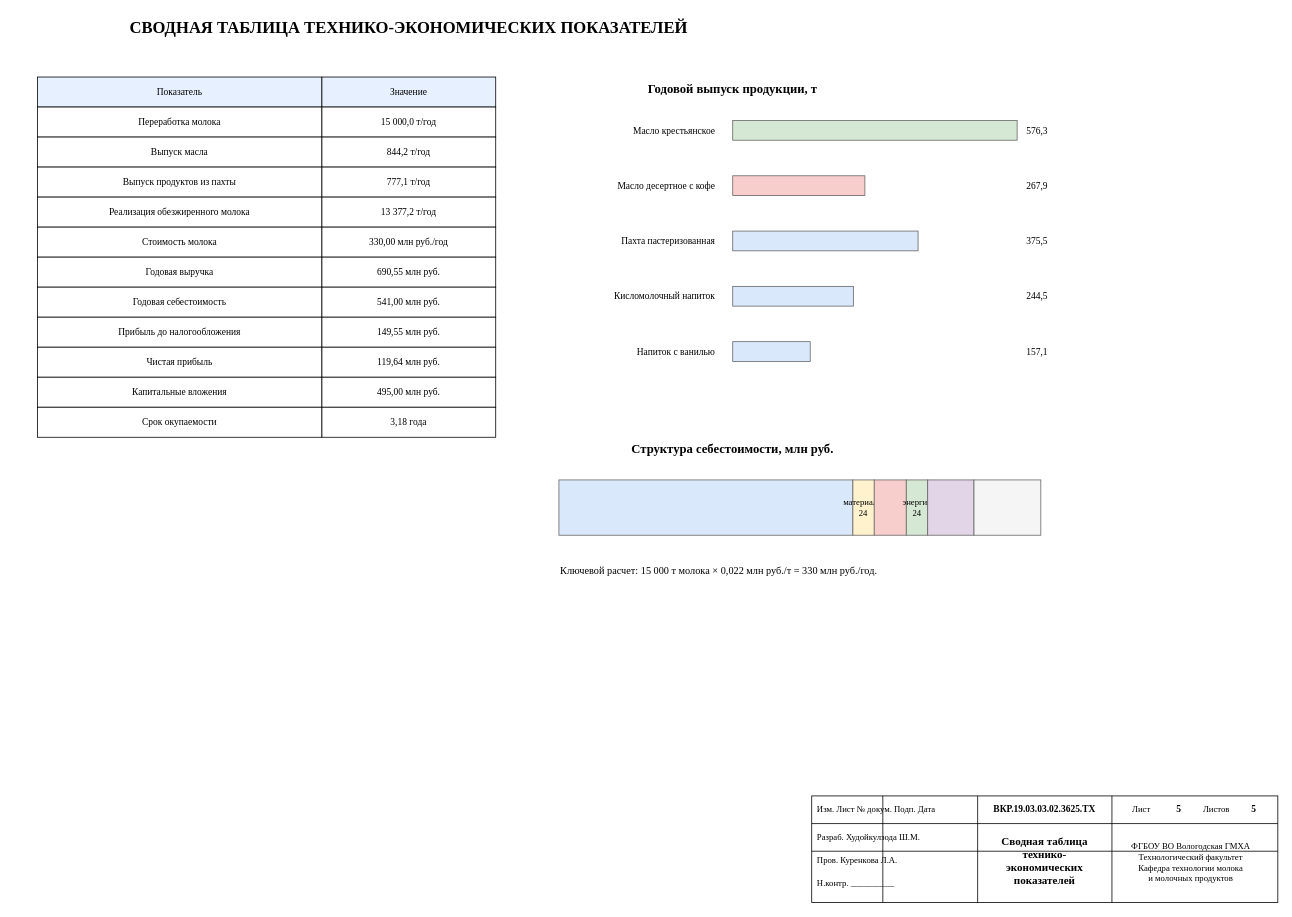
The diagram is 1292 pixels wide and 917 high, and some of its shapes have lost their labels. The centre of each missing label's shape, as x and y in pixels:
молоко 330: the point at 705,507
прочие 75: the point at 1007,507
труд 52: the point at 950,507
упаковка 36: the point at 889,507
